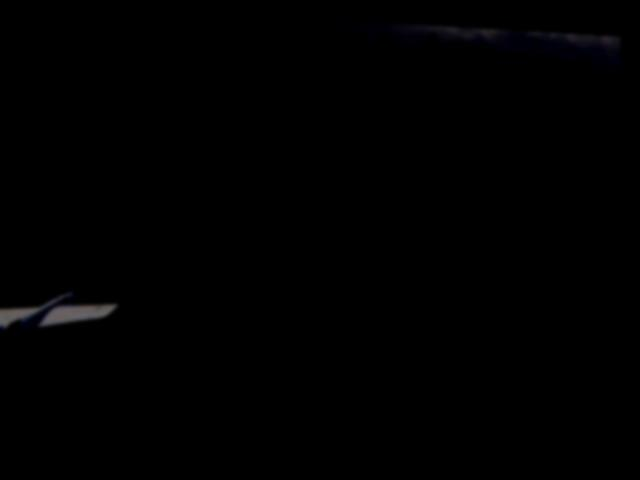iha: (0, 273, 134, 376)
